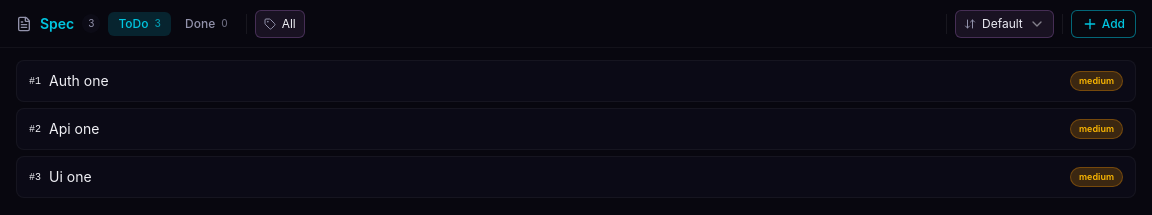
Scenario: SpecsBoard label filter dropdown › selecting a single label filters the visible specs
Click the button with test id "spec-label-filter-dropdown". click: click(280, 24)
box: [255,10,305,38]
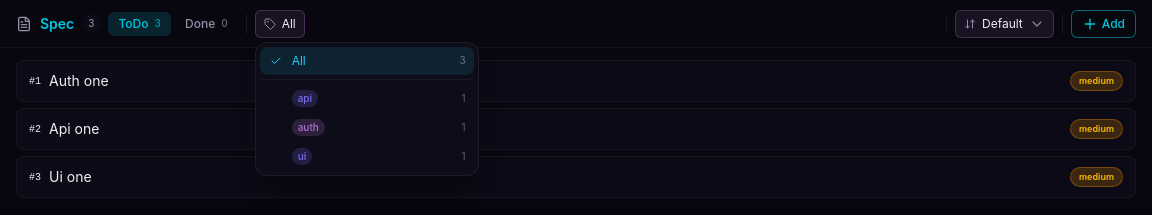
Click the text "auth". click: click(308, 127)
box: [292,119,325,136]
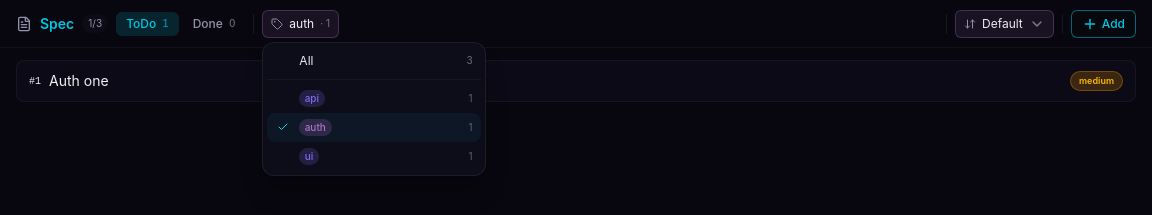
Check: the text "Auth one" is shown, box [49,72,109,89]
Check: the button "Api one" is gone
Check: the button "Ui one" is gone
